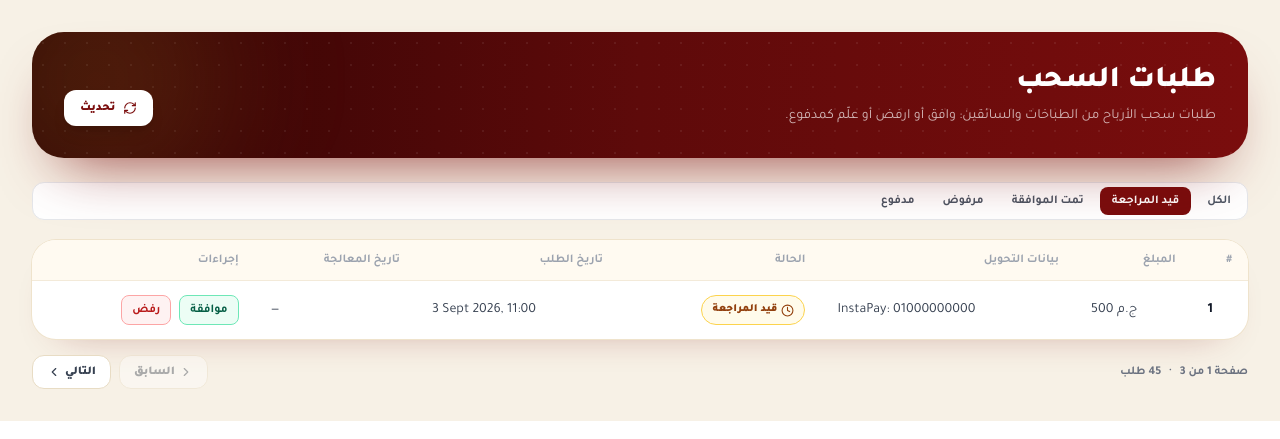
US1 — review the withdrawals queue › FR-016: a page that goes empty after a refresh shows "back to first page" → reloads page 1
expect the text "1" is shown: met, box [1192,280,1248,339]
Click the button with aria-label "الصفحة التالية".
click(71, 372)  # box [32,355,111,389]
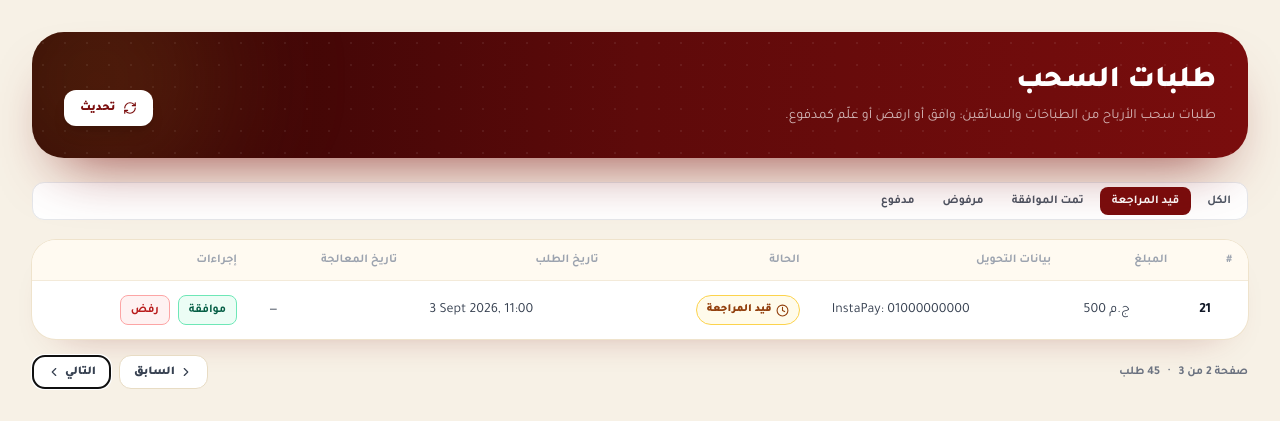
expect the text "21" is shown: met, box [1183,280,1248,339]
Click the button "تحديث".
click(109, 108)  # box [64,90,153,126]
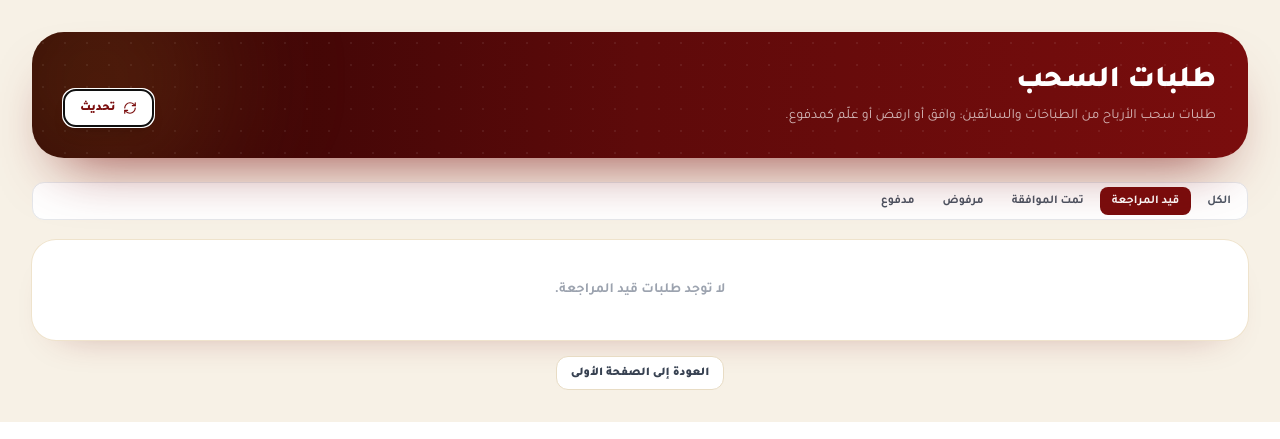
expect the button "العودة إلى الصفحة الأولى" is shown: met
Click the button "العودة إلى الصفحة الأولى".
click(640, 373)  # box [556,356,724,390]
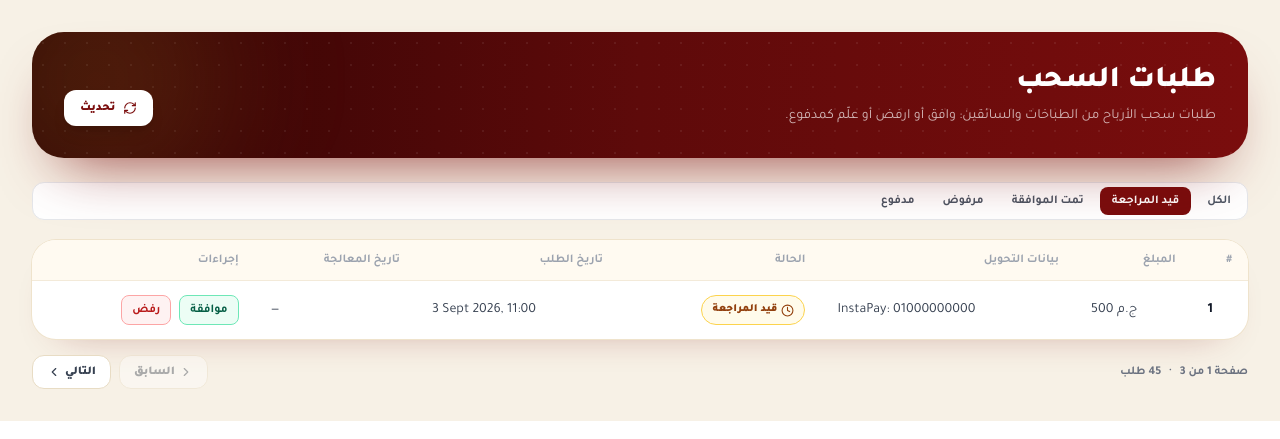
expect the text "1" is shown: met, box [1192,280,1248,339]
